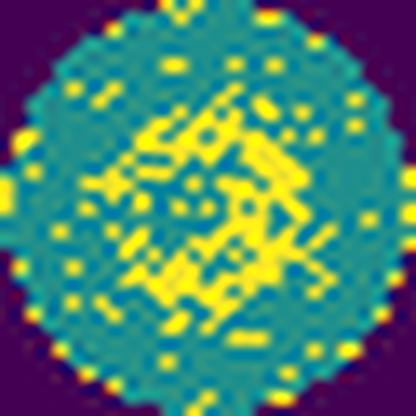Donut: (56, 80, 338, 342)
